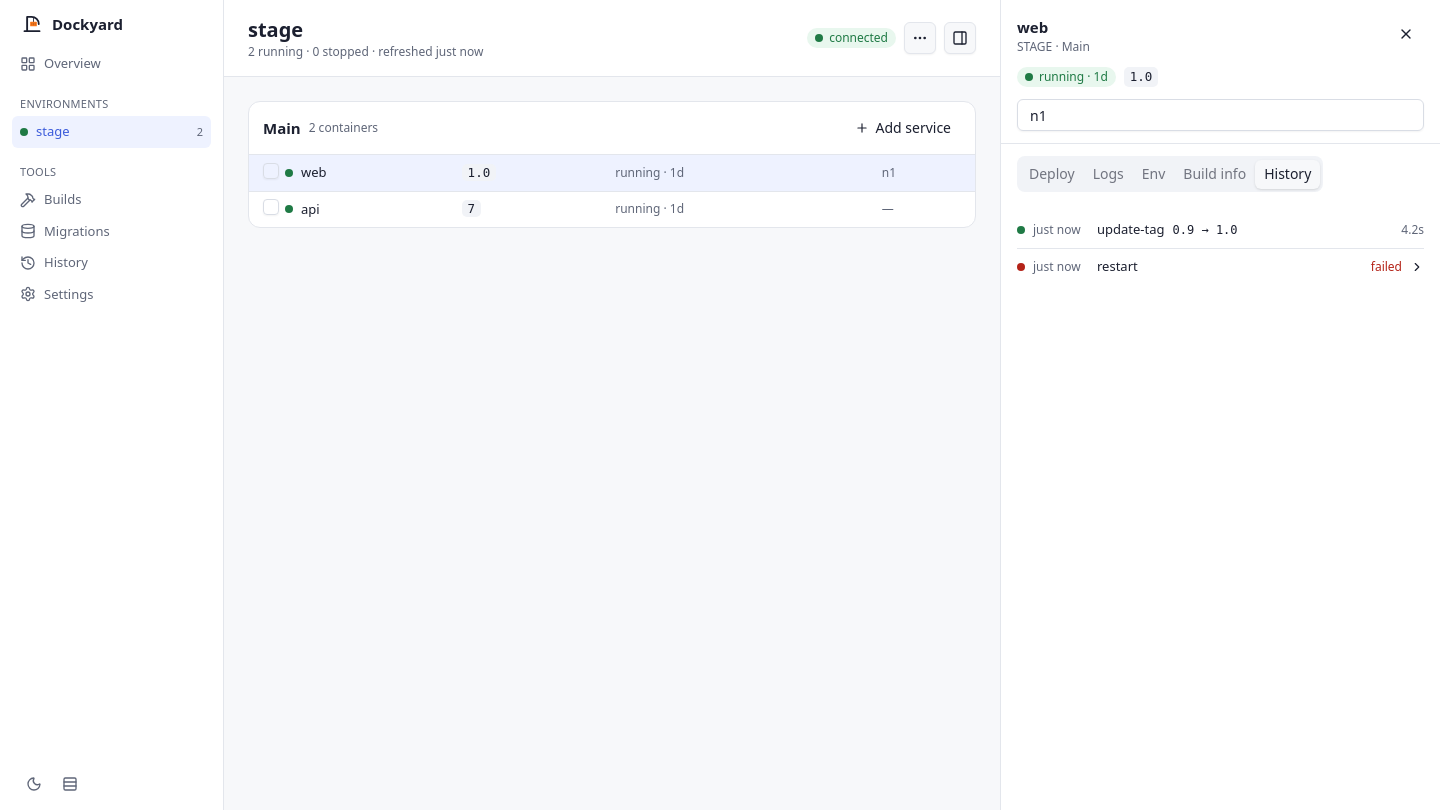
Test: ContainerDrawer › stays open and switches container when another row is clicked
Click the text "api" at [310, 209], box [301, 200, 320, 219]
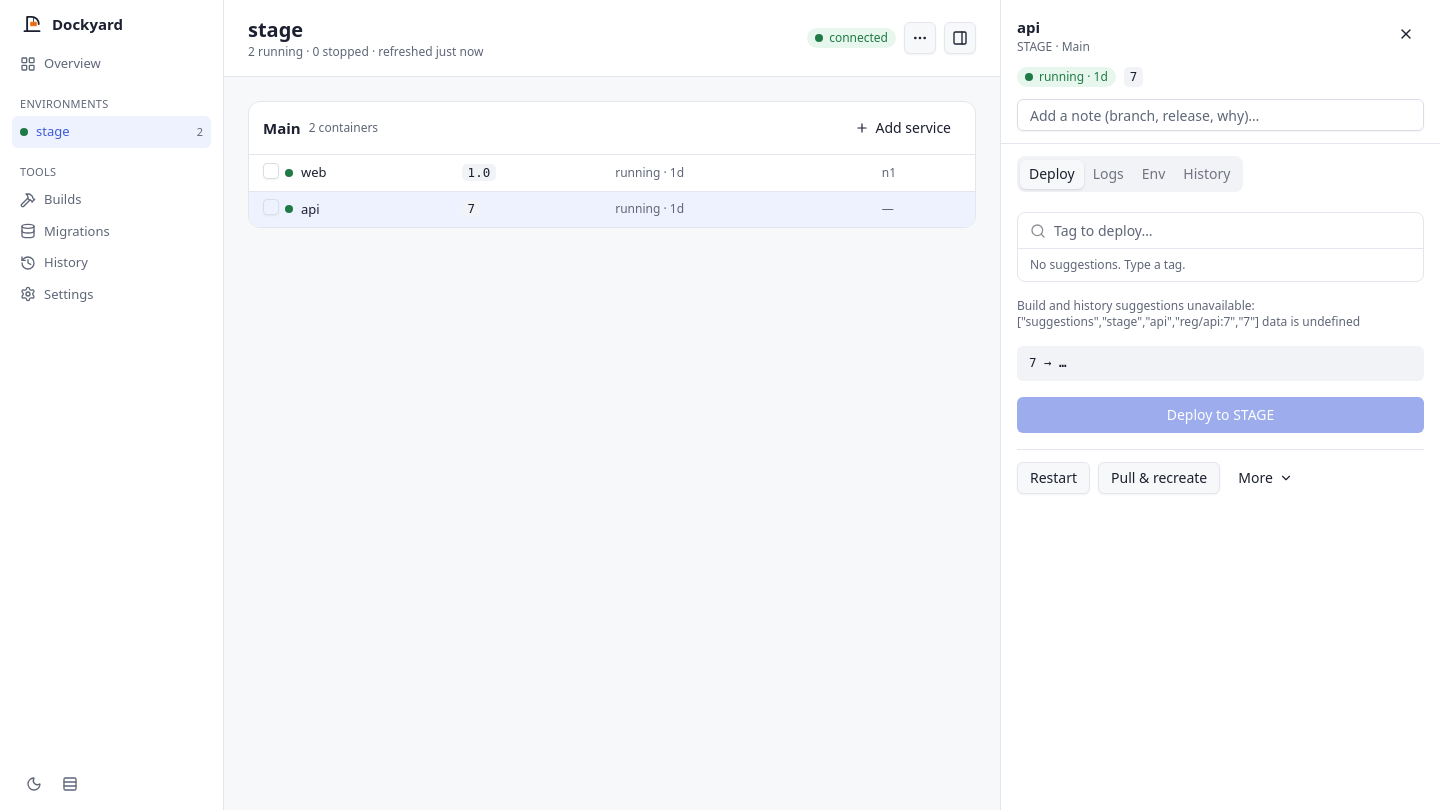
Result: the heading "api" is shown at [1017, 17, 1040, 37]
